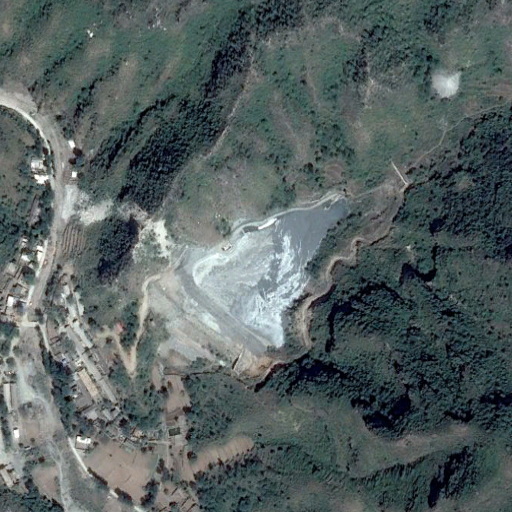tp: (148, 194, 344, 381)
